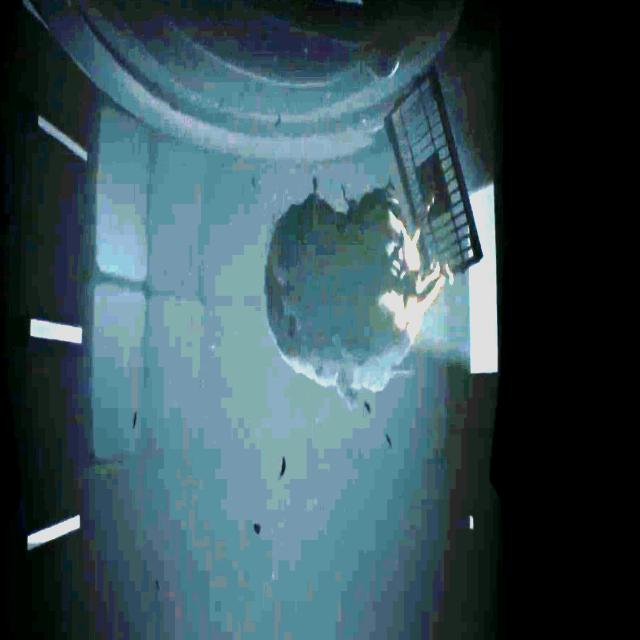blob: (264, 179, 453, 405)
